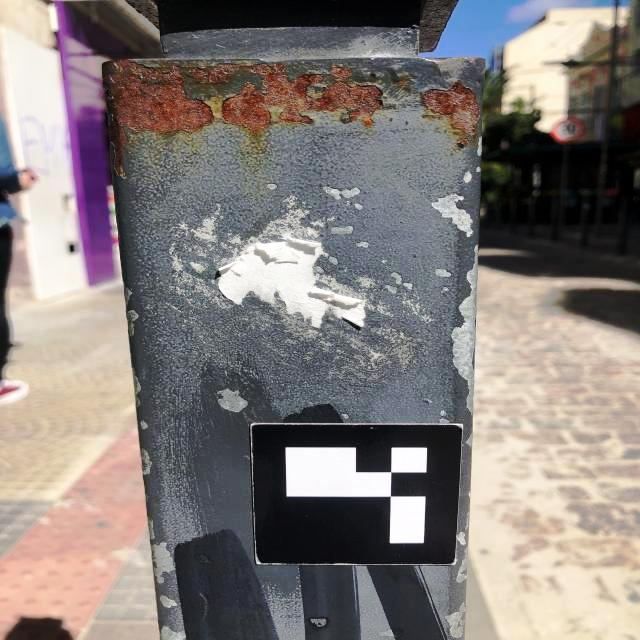Corrosion: (102, 59, 383, 175), (423, 80, 480, 135), (454, 138, 469, 145), (470, 57, 476, 63), (370, 73, 376, 77)
